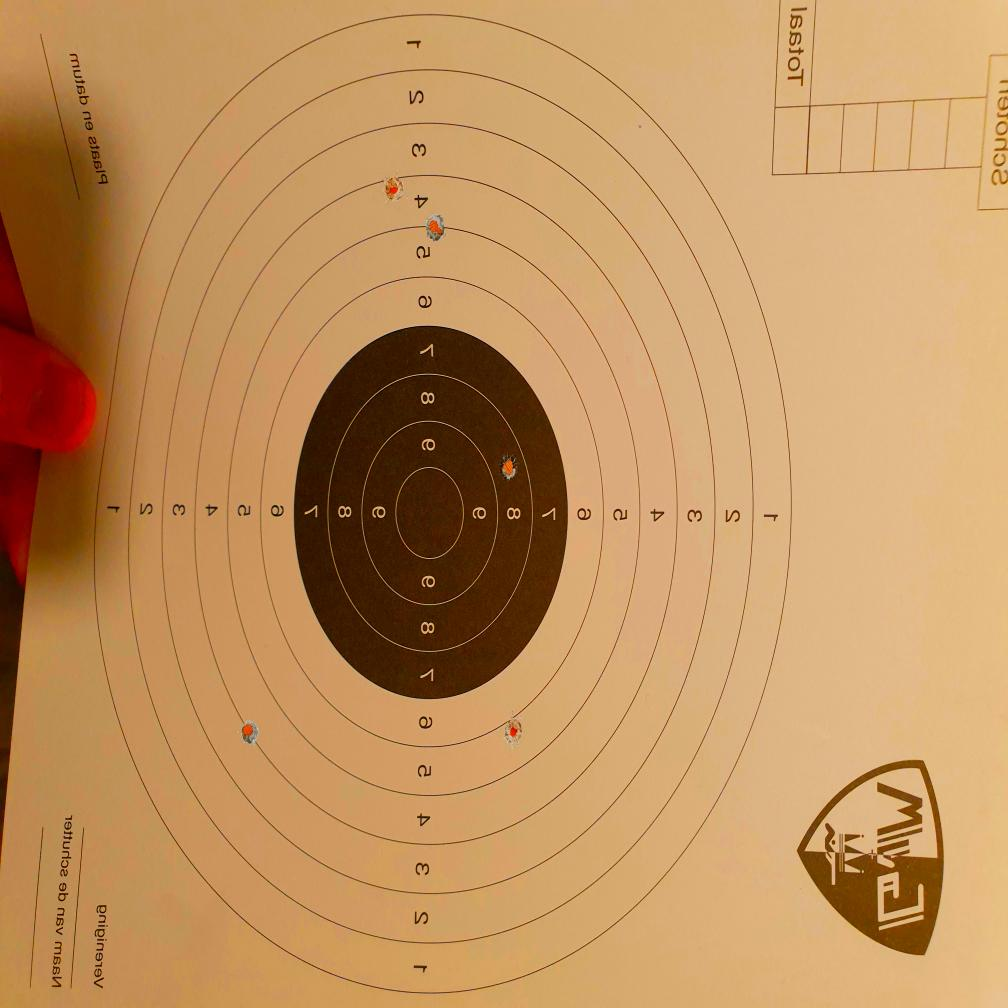4: (382, 174, 404, 203), (240, 720, 259, 745)
5: (425, 214, 446, 242)
6: (503, 716, 523, 747)
8: (499, 454, 519, 480)
Target: (96, 11, 792, 995)
black_contour: (295, 324, 567, 699)
